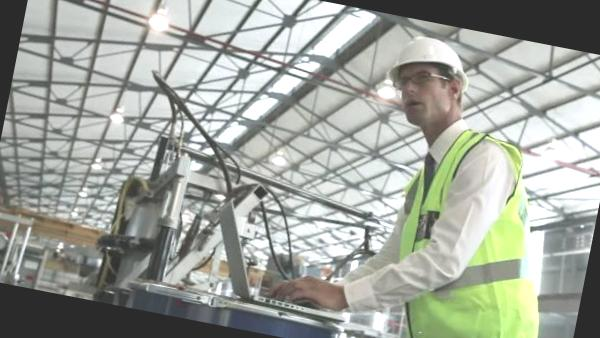helmet: (380, 28, 480, 101)
person: (322, 24, 600, 338)
